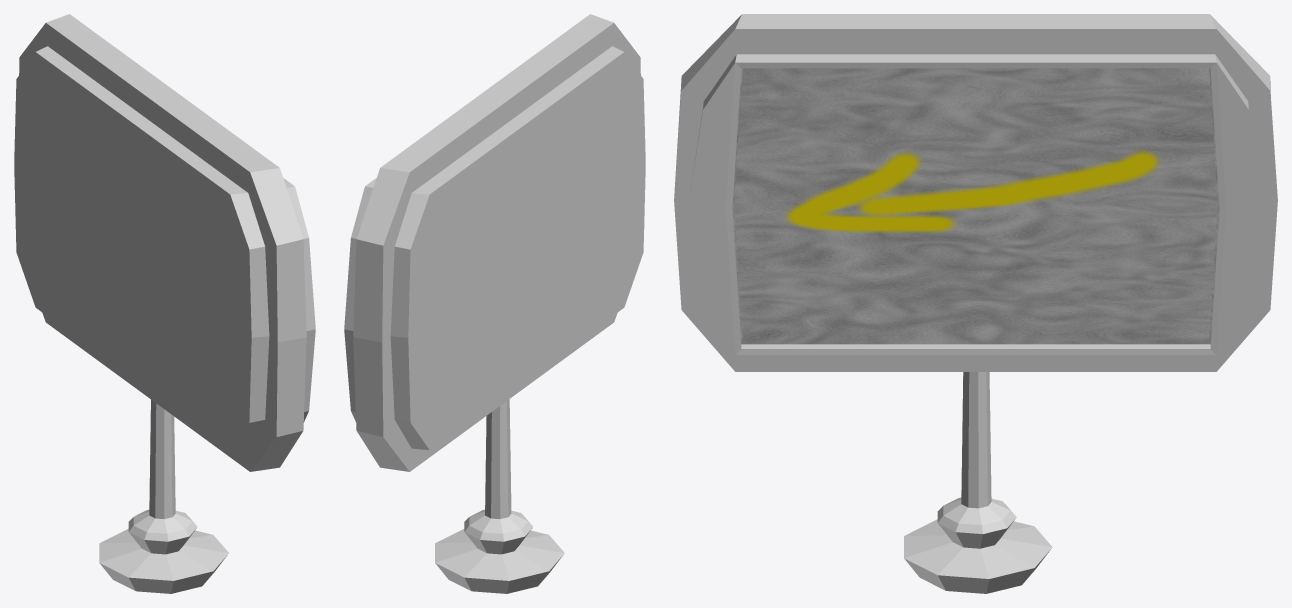
File: Billboard.fbx
3 renders of one model, left to right at view 1: azimuth 30°, elevation 25°; view 2: azimuth 150°, elevation 25°; view 3: azimuth 270°, elevation 25°, orthographic. The views are drawn at different scales.
Visible parts, largest first — view 1: Billboard; view 2: Billboard; view 3: Screen, Billboard.
Boxes of the visible parts, bbox=[...] form: Billboard: bbox=[14, 14, 315, 593]; Billboard: bbox=[344, 14, 645, 593]; Screen: bbox=[732, 68, 1219, 344]; Billboard: bbox=[674, 14, 1277, 593].
Size of the model in its own units: 122 by 490 by 486.
